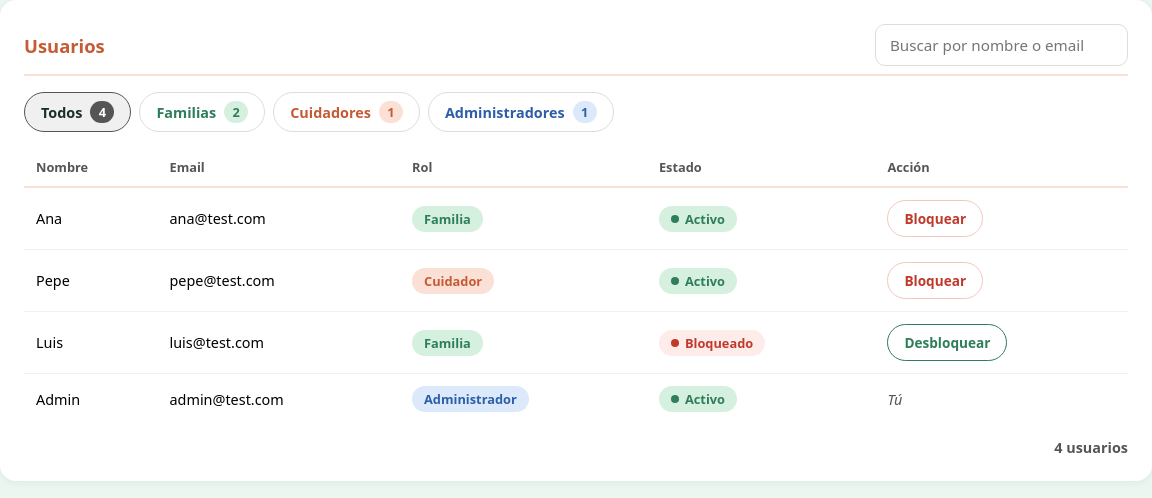
AdminUsuarios › el botón de grupo y el buscador funcionan a la vez
This screenshot has width=1152, height=498.
Click the button with class "admin-usuarios__grupo" showing "Familias 2". click: (202,112)
box: [139, 92, 265, 132]
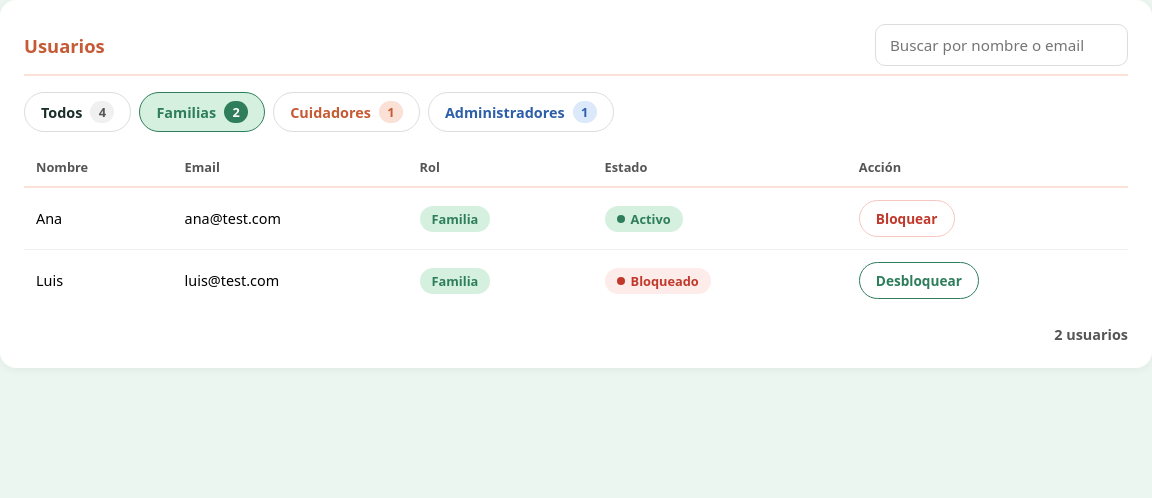
Type "ana" into the search field with placeholder "Buscar por nombre o email". click: (1002,45)
box: [875, 24, 1128, 66]
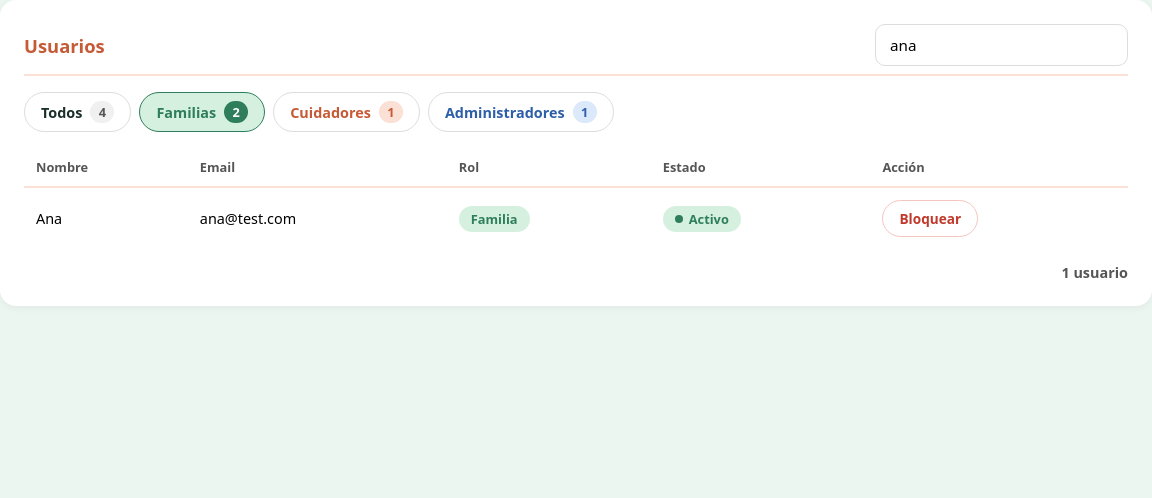
expect the text "ana@test.com" is shown: met, box [188, 187, 447, 249]
expect the text "Luis" is gone: met
